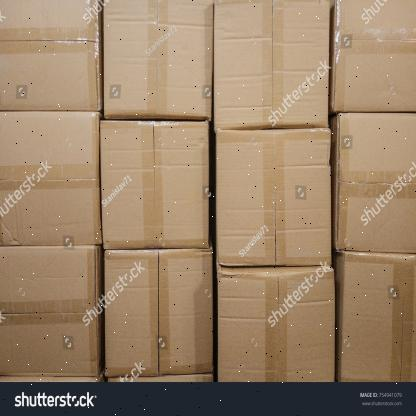box: (214, 126, 333, 267), (215, 0, 328, 129), (102, 119, 210, 249), (218, 267, 336, 385), (107, 249, 214, 379), (0, 111, 101, 247), (102, 0, 212, 120), (0, 245, 98, 376), (0, 0, 100, 112), (336, 112, 416, 251), (338, 250, 416, 384), (333, 0, 416, 113)
